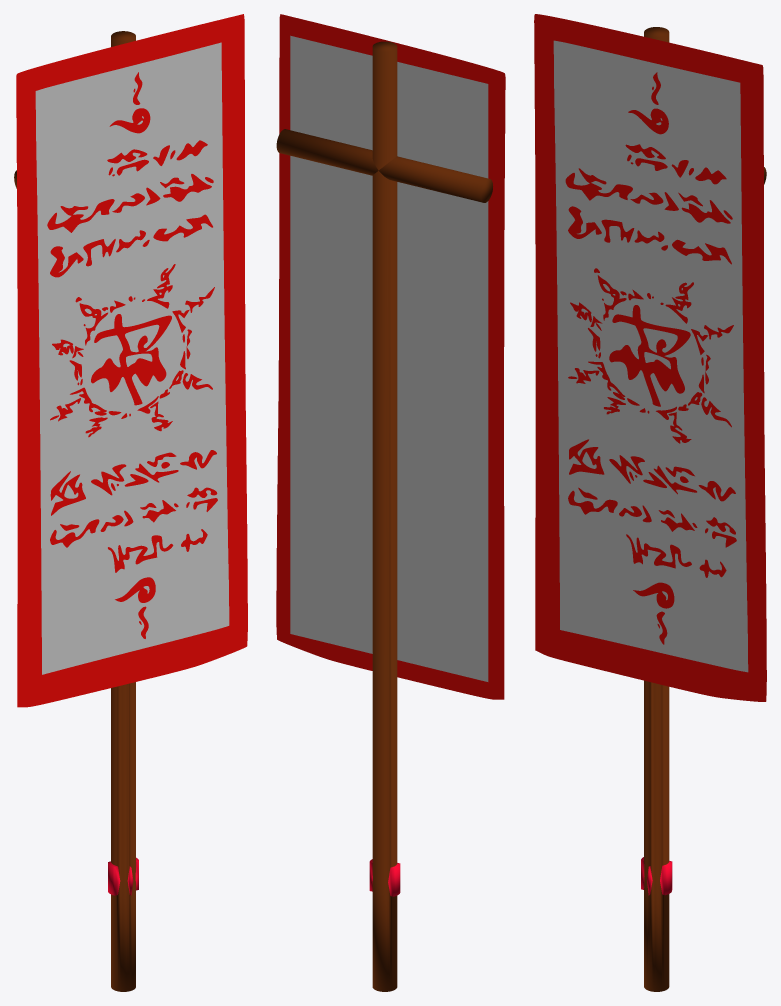
The model's file is Amulet.fbx.
The picture shows the model from 3 angles, left to right: view 1: azimuth 30°, elevation 25°; view 2: azimuth 150°, elevation 25°; view 3: azimuth 330°, elevation 25°; orthographic projection.
Parts seen in each view (by area): view 1: Curve.001; view 2: Curve.001; view 3: Curve.001.
Part boxes in pixels (x1=…): Curve.001: x1=14, y1=14, x2=247, y2=991; Curve.001: x1=276, y1=14, x2=505, y2=991; Curve.001: x1=534, y1=14, x2=766, y2=991.
Size of the model in its own units: 66.76 by 262 by 7.04.
